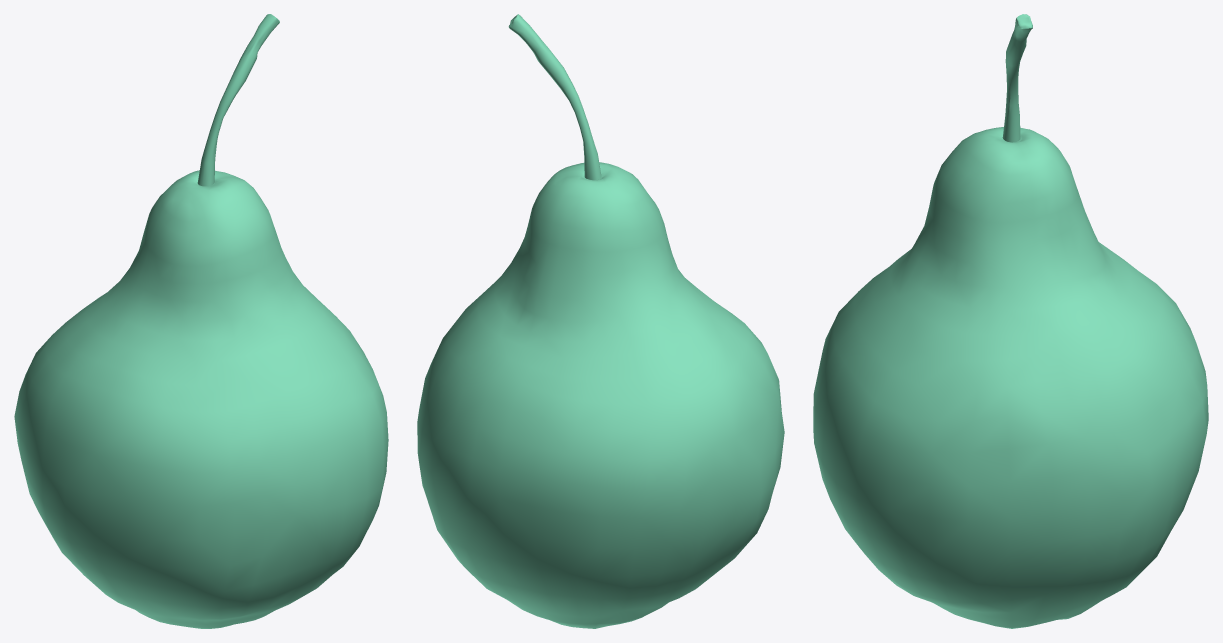
3 views of the same model, side by side, from view 1: azimuth 30°, elevation 25°; view 2: azimuth 150°, elevation 25°; view 3: azimuth 270°, elevation 25° (orthographic). The views are drawn at different scales.
Visible parts, largest first — view 1: pear_002_Pear_Skin__pear_diffuse_jpg_0; view 2: pear_002_Pear_Skin__pear_diffuse_jpg_0; view 3: pear_002_Pear_Skin__pear_diffuse_jpg_0.
Boxes of the visible parts, x1,y1,x2,y2 form: pear_002_Pear_Skin__pear_diffuse_jpg_0: [14, 14, 388, 628]; pear_002_Pear_Skin__pear_diffuse_jpg_0: [417, 14, 784, 628]; pear_002_Pear_Skin__pear_diffuse_jpg_0: [813, 14, 1208, 628].
Bounding box in the file's own units: 0.5752 × 1 × 0.5703.
